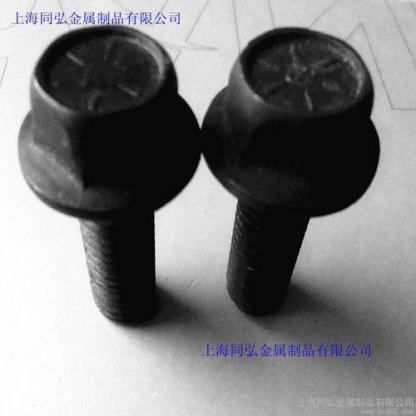FOD: (14, 21, 201, 328), (202, 24, 384, 320)
